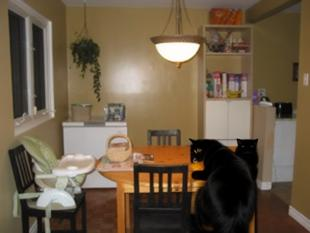cat: (190, 139, 257, 232)
chair: (8, 144, 86, 233), (133, 163, 189, 232), (147, 129, 183, 148)
diningtable: (97, 141, 242, 233)
pottedplant: (70, 32, 105, 104)
